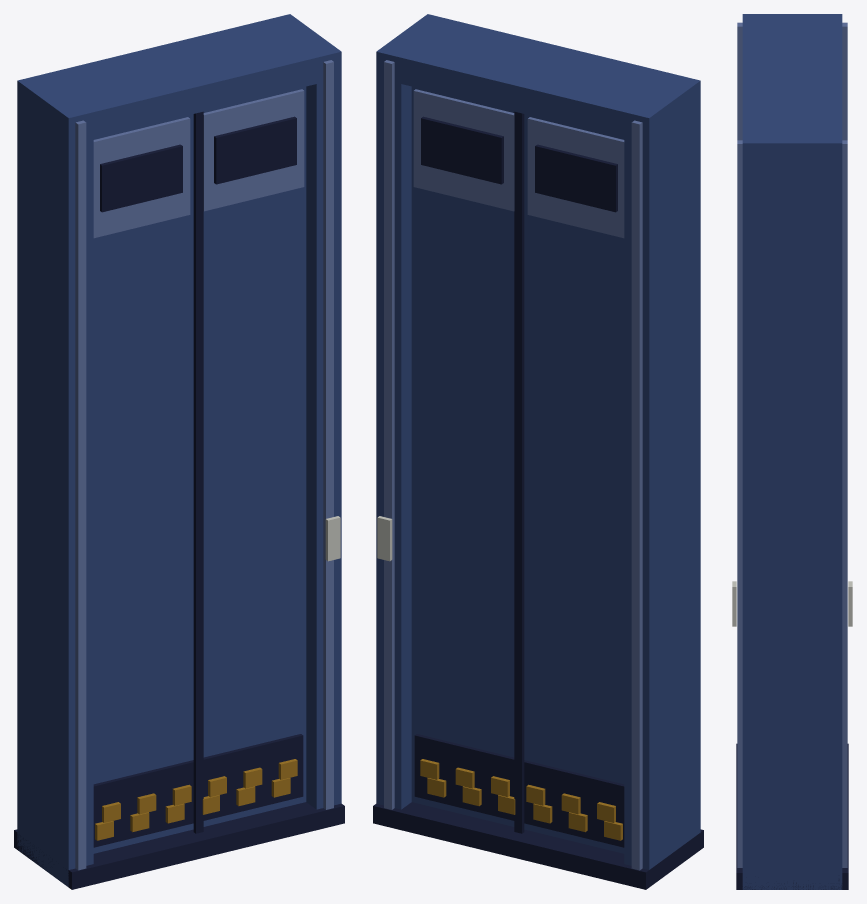
Rendered from CMU3DSingleComDoor.glb.
3 renders of one model, left to right at view 1: azimuth 30°, elevation 25°; view 2: azimuth 150°, elevation 25°; view 3: azimuth 270°, elevation 25°, orthographic. The views are drawn at different scales.
Parts seen in each view (by area): view 1: closed leaf body, door jamb (×2), header, jamb raised edge (×2), upper inset band (×2), lower hazard backing, threshold, upper dark inset (×2), leaf meeting seam, side access reader; view 2: closed leaf body, door jamb (×2), header, jamb raised edge (×2), upper inset band back (×2), lower hazard backing back, threshold, upper dark inset back (×2), leaf meeting seam back, side access reader back; view 3: door jamb (×2), header, jamb raised edge (×4), threshold.
Part boxes in pixels (x1,y1,x2,y2): closed leaf body: [93, 86, 306, 853]; door jamb (×2): [17, 14, 341, 887]; header: [17, 14, 341, 144]; jamb raised edge (×2): [75, 60, 333, 870]; upper inset band (×2): [93, 89, 304, 238]; lower hazard backing: [93, 734, 303, 847]; threshold: [14, 802, 344, 889]; upper dark inset (×2): [100, 116, 296, 212]; leaf meeting seam: [193, 111, 203, 833]; side access reader: [325, 516, 340, 561]; closed leaf body: [411, 86, 624, 853]; door jamb (×2): [376, 14, 700, 869]; header: [376, 14, 700, 144]; jamb raised edge (×2): [384, 60, 642, 870]; upper inset band back (×2): [413, 89, 624, 238]; lower hazard backing back: [414, 734, 624, 847]; threshold: [373, 802, 703, 889]; upper dark inset back (×2): [421, 116, 617, 212]; leaf meeting seam back: [514, 111, 524, 833]; side access reader back: [377, 516, 392, 561]; door jamb (×2): [742, 14, 842, 889]; header: [742, 14, 842, 168]; jamb raised edge (×4): [737, 22, 847, 867]; threshold: [736, 743, 848, 889].
Bounding box in the file's own units: 0.98 × 2.64 × 0.386.
